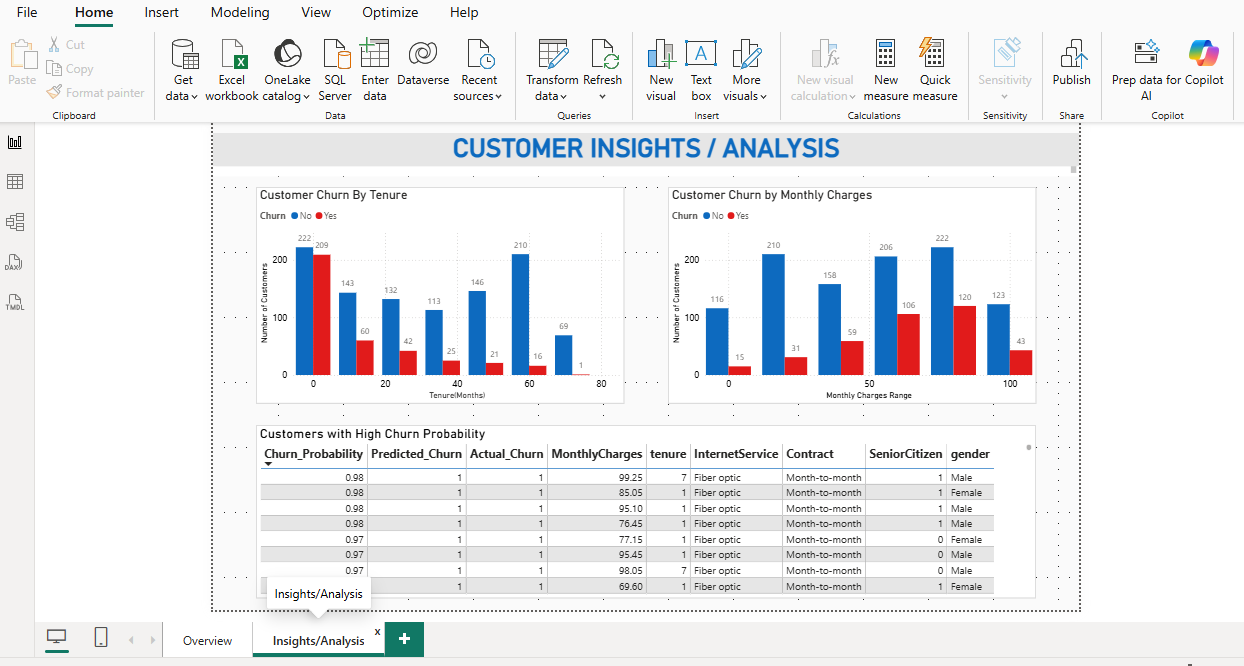

This screenshot's page, from the dashboard's own definition file:
{"tool":"powerbi","page":{"name":"Insights/Analysis","canvas":[1280,720],"ordinal":1},"visuals":[{"type":"tableEx","title":"Customers with High Churn Probability","fields":{"Values":["churn_dashboard.Churn_Probability","churn_dashboard.Predicted_Churn","churn_dashboard.Actual_Churn","churn_dashboard.MonthlyCharges","churn_dashboard.tenure","churn_dashboard.InternetService","churn_dashboard.Contract","churn_dashboard.SeniorCitizen","churn_dashboard.gender"]},"box":[64,448,1152,256],"z":0},{"type":"textbox","title":"CUSTOMER INSIGHTS / ANALYSIS","box":[0,16,1280,64],"z":1000},{"type":"clusteredColumnChart","title":"Customer Churn By Tenure","fields":{"Category":["churn_dashboard.tenure (bins)"],"Y":["CountNonNull(churn_dashboard.Actual_Churn)"],"Series":["churn_dashboard.Churn_Label"]},"box":[64,96,544,320],"z":2000},{"type":"clusteredColumnChart","title":"Customer Churn by Monthly Charges","fields":{"Category":["churn_dashboard.MonthlyCharges (bins)"],"Y":["CountNonNull(churn_dashboard.Actual_Churn)"],"Series":["churn_dashboard.Churn_Label"]},"box":[672,96,544,320],"z":3000}]}

Visuals, with their boxes on the page's 1280x720 design canvas (x1, y1, x2, y2). These are canvas units, not pixel positions in the 1244x666 screenshot, which may show the page scaled, cropped or inside an application window:
"Customers with High Churn Probability" tableEx: l=64, t=448, r=1216, b=704
"CUSTOMER INSIGHTS / ANALYSIS" textbox: l=0, t=16, r=1280, b=80
"Customer Churn By Tenure" clusteredColumnChart: l=64, t=96, r=608, b=416
"Customer Churn by Monthly Charges" clusteredColumnChart: l=672, t=96, r=1216, b=416
